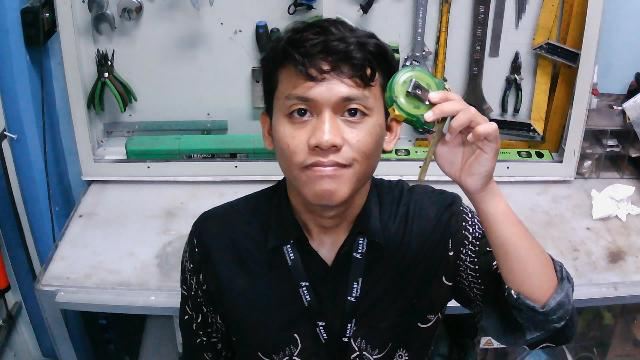meteran: (381, 67, 458, 185)
